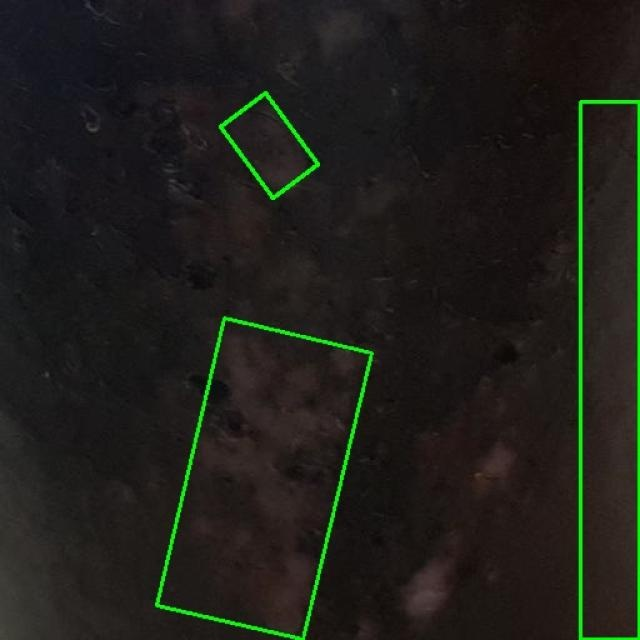Contact Dermatitis: (157, 318, 371, 640), (580, 101, 639, 639), (220, 93, 318, 198)
